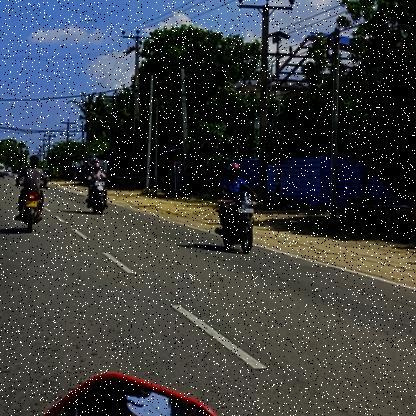motorcycle: (214, 190, 261, 258), (13, 188, 47, 236), (85, 180, 113, 216)
